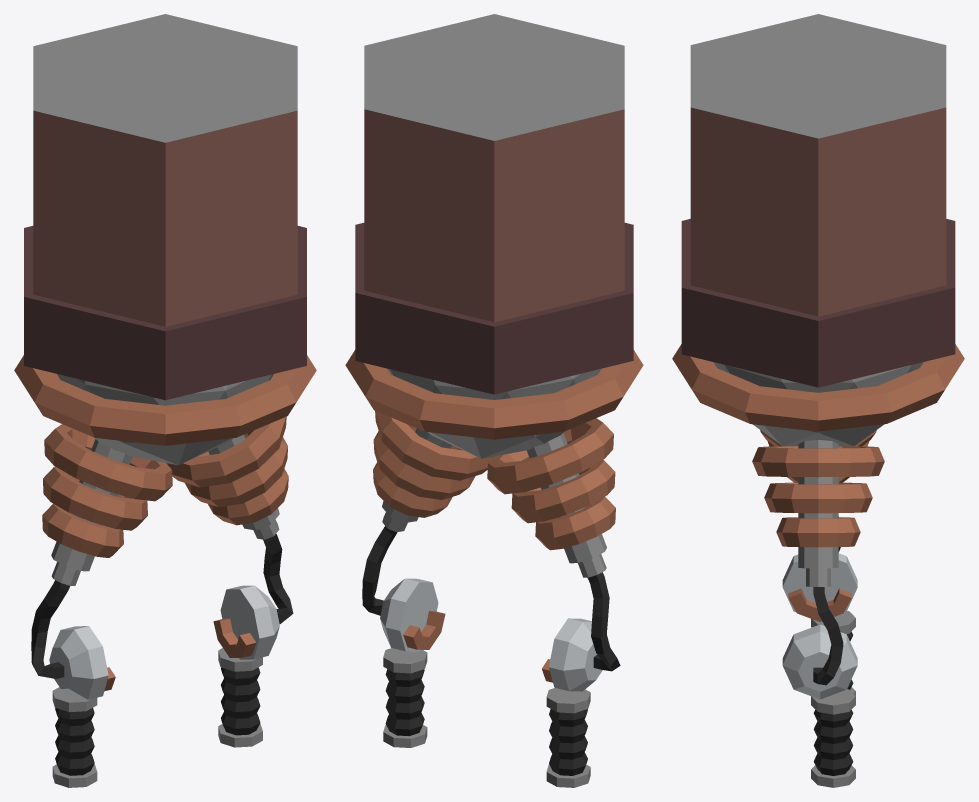
Rendered from CopperMetalMechMediumTwinElectrodesFloorMount1.fbx.
3 renders of one model, left to right at view 1: azimuth 30°, elevation 25°; view 2: azimuth 150°, elevation 25°; view 3: azimuth 270°, elevation 25°, orthographic. The views are drawn at different scales.
Visible parts, largest first — view 1: CopperMetalMechMediumTwinElectrodesFloorMount1; view 2: CopperMetalMechMediumTwinElectrodesFloorMount1; view 3: CopperMetalMechMediumTwinElectrodesFloorMount1.
Part boxes in pixels (x1=…): CopperMetalMechMediumTwinElectrodesFloorMount1: x1=14, y1=14, x2=316, y2=787; CopperMetalMechMediumTwinElectrodesFloorMount1: x1=345, y1=14, x2=643, y2=787; CopperMetalMechMediumTwinElectrodesFloorMount1: x1=672, y1=14, x2=964, y2=787.
Size of the model in its own units: 324 by 750 by 300.
Materials: 1 (1 with a texture image).
